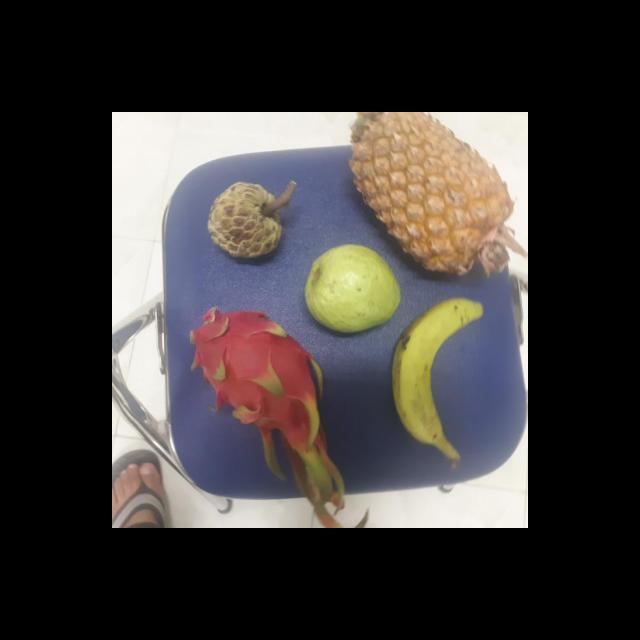Sakya fruit: (204, 182, 286, 261)
banana: (387, 301, 481, 454)
guava: (300, 244, 400, 332)
pitaya: (182, 307, 326, 453)
